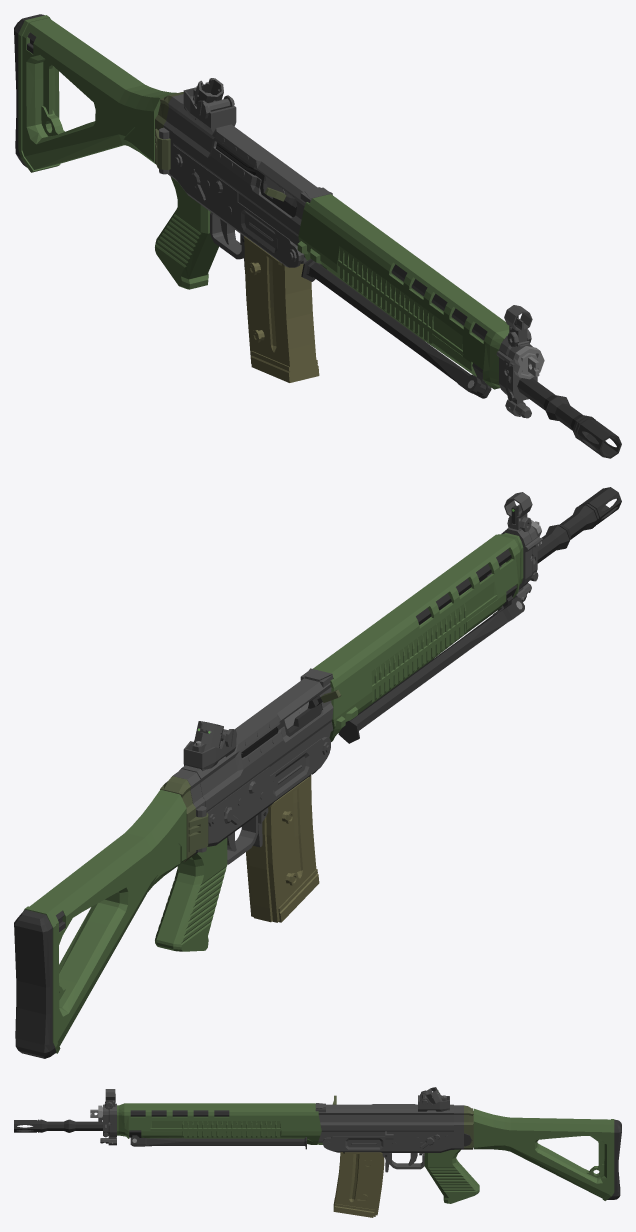
The model's file is sig_sg_550_low-poly.glb.
3 views of the same model, one above another, from view 1: azimuth 30°, elevation 25°; view 2: azimuth 150°, elevation 25°; view 3: azimuth 270°, elevation 25° (orthographic). The views are drawn at different scales.
Visible parts, largest first — view 1: Object_9, Object_7, Object_3, Object_5, Object_10, Object_6, Object_2; view 2: Object_9, Object_7, Object_5, Object_3, Object_2, Object_10; view 3: Object_9, Object_7, Object_5, Object_3, Object_2, Object_10, Object_6.
Boxes of the visible parts, x1,y1,x2,y2 form: Object_9: (18, 15, 509, 389); Object_7: (159, 78, 537, 418); Object_3: (244, 236, 319, 382); Object_5: (242, 168, 621, 458); Object_10: (155, 92, 286, 201); Object_6: (196, 86, 544, 409); Object_2: (14, 14, 44, 167); Object_9: (23, 532, 523, 1053); Object_7: (173, 492, 542, 864); Object_5: (263, 487, 621, 815); Object_3: (246, 775, 319, 922); Object_2: (14, 909, 65, 1058); Object_10: (160, 690, 341, 861); Object_9: (117, 1103, 614, 1203); Object_7: (100, 1087, 463, 1172); Object_5: (14, 1094, 386, 1156); Object_3: (333, 1152, 384, 1217); Object_2: (464, 1119, 621, 1199); Object_10: (332, 1095, 473, 1149); Object_6: (90, 1090, 445, 1143).
Size of the model in its own units: 0.0671 by 0.233 by 1.02.
